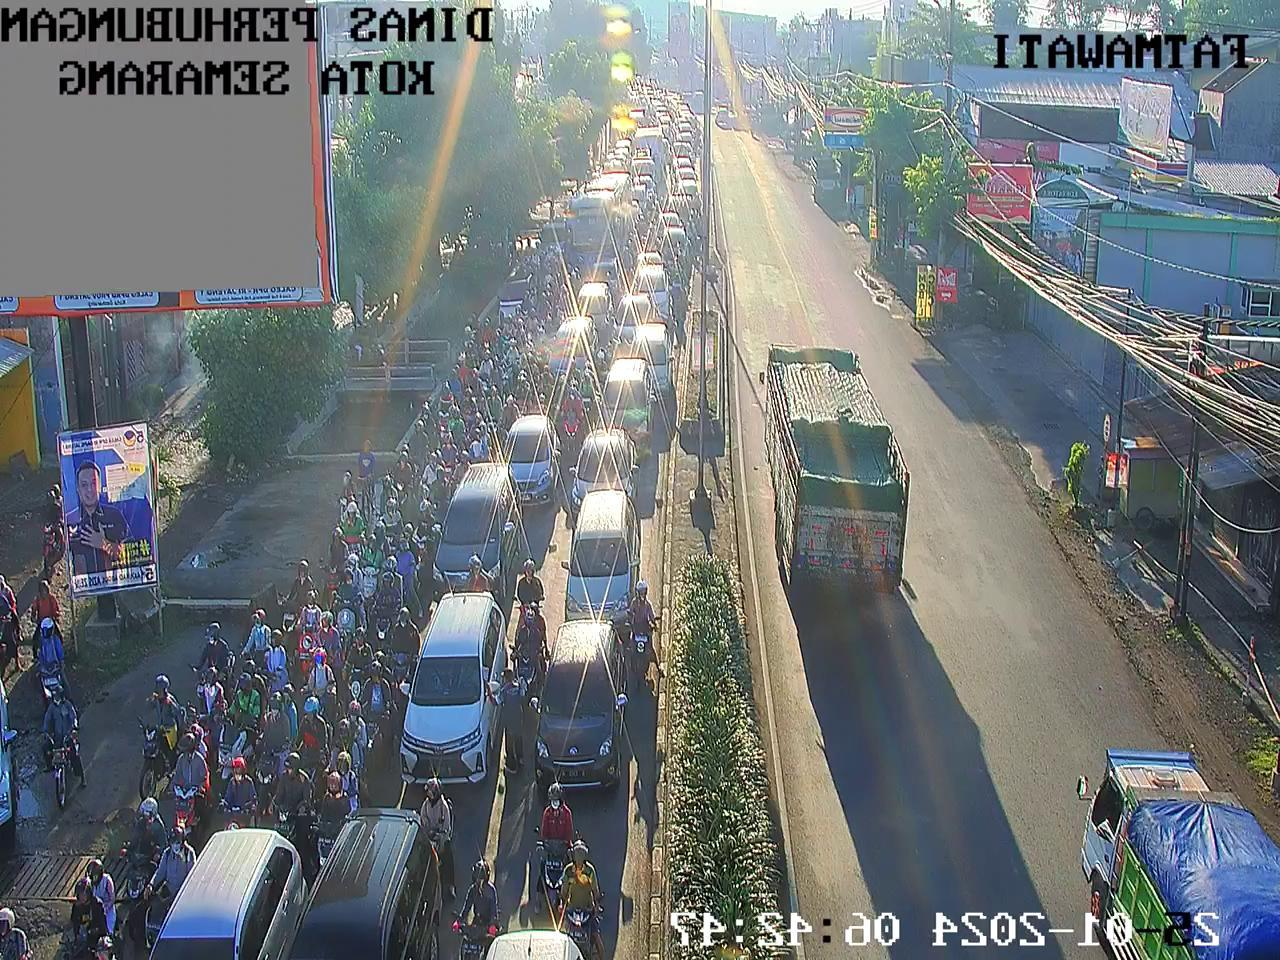bus: (579, 173, 618, 257), (643, 121, 662, 178)
car: (415, 599, 499, 779), (183, 829, 290, 960), (329, 822, 422, 958), (546, 628, 619, 786), (563, 498, 632, 617), (447, 469, 505, 589), (573, 431, 638, 507), (506, 421, 553, 507), (604, 364, 648, 435), (0, 681, 13, 838), (557, 315, 590, 366), (500, 273, 534, 320), (641, 327, 670, 371), (619, 297, 646, 344), (577, 284, 607, 324), (638, 268, 664, 311), (540, 221, 569, 257), (593, 253, 621, 287), (664, 223, 684, 254), (638, 251, 660, 275), (632, 156, 654, 179), (632, 175, 649, 199), (678, 181, 697, 196), (674, 157, 692, 169), (678, 141, 693, 155), (660, 214, 676, 227), (631, 198, 641, 218), (677, 167, 692, 181), (613, 155, 627, 168), (616, 139, 630, 150), (660, 115, 669, 130), (632, 108, 642, 121), (656, 107, 668, 117), (679, 103, 689, 115), (683, 131, 692, 143), (653, 100, 660, 113), (682, 123, 690, 134), (656, 89, 664, 100), (683, 111, 692, 120), (632, 80, 639, 91), (641, 94, 647, 105), (647, 86, 654, 95)
motorcycle: (561, 840, 607, 960), (169, 730, 212, 847), (127, 808, 165, 934), (136, 681, 175, 801), (148, 830, 186, 948), (537, 787, 574, 907), (458, 861, 500, 960), (256, 693, 290, 811), (317, 755, 357, 858), (45, 693, 80, 809), (63, 866, 106, 960), (221, 681, 255, 787), (329, 706, 366, 800), (271, 749, 308, 840), (419, 781, 452, 883), (628, 581, 658, 689), (361, 666, 390, 762), (294, 704, 328, 788), (515, 608, 543, 705), (38, 477, 63, 580), (193, 629, 226, 706), (278, 565, 307, 651), (342, 630, 369, 712), (515, 558, 545, 630), (31, 582, 59, 657), (225, 766, 255, 836), (338, 560, 363, 642), (41, 624, 65, 714), (411, 494, 433, 586), (391, 613, 414, 701), (313, 615, 342, 687), (376, 565, 401, 644), (359, 536, 383, 615), (296, 596, 318, 680), (0, 577, 18, 676), (243, 611, 269, 679), (0, 904, 31, 960), (193, 680, 220, 744), (324, 531, 347, 607), (258, 634, 287, 693), (373, 472, 395, 543), (340, 498, 362, 567), (406, 425, 428, 489), (420, 449, 438, 520), (394, 444, 412, 514), (561, 388, 581, 451), (429, 471, 447, 535), (385, 496, 400, 567), (398, 535, 413, 604), (469, 419, 491, 466), (452, 453, 469, 510), (437, 432, 455, 488), (498, 396, 516, 448), (581, 370, 597, 428), (669, 257, 685, 311), (465, 409, 482, 459), (592, 332, 609, 381), (338, 470, 354, 521), (458, 341, 475, 388), (419, 403, 435, 452), (551, 374, 567, 422), (461, 389, 476, 439), (500, 347, 515, 396), (513, 374, 532, 412), (498, 319, 515, 360), (447, 408, 463, 455), (687, 214, 700, 266), (479, 353, 495, 395), (460, 324, 476, 366), (486, 387, 501, 430), (514, 355, 531, 388), (554, 268, 567, 312), (480, 319, 495, 356), (449, 363, 461, 409), (543, 277, 556, 320), (438, 390, 449, 444), (513, 305, 524, 345), (521, 342, 535, 372), (527, 361, 540, 392), (540, 366, 553, 397), (534, 392, 548, 419), (519, 256, 533, 282), (562, 240, 573, 273), (537, 299, 546, 339), (679, 186, 691, 215), (544, 246, 555, 277), (623, 246, 632, 283), (568, 359, 579, 392), (527, 308, 537, 341), (693, 125, 703, 156), (664, 142, 674, 173), (668, 165, 678, 197), (651, 232, 662, 260), (638, 213, 647, 247), (536, 338, 547, 365), (532, 242, 541, 275), (628, 226, 636, 263), (574, 255, 585, 284), (658, 173, 666, 207), (648, 191, 657, 219), (692, 188, 702, 213), (667, 187, 677, 212), (644, 201, 651, 234), (632, 144, 642, 162), (583, 167, 592, 187), (557, 201, 567, 218), (598, 158, 606, 175), (626, 170, 633, 190), (553, 212, 564, 223), (574, 184, 582, 201), (669, 126, 675, 144), (595, 160, 601, 176), (567, 188, 573, 203), (693, 114, 698, 129), (583, 179, 588, 195), (687, 116, 693, 128), (665, 94, 671, 106), (606, 156, 611, 170), (671, 116, 676, 129), (626, 129, 631, 141), (646, 99, 651, 111), (669, 109, 674, 120), (648, 117, 653, 128), (631, 128, 636, 139), (683, 115, 688, 125), (642, 118, 647, 128), (637, 119, 641, 129), (654, 118, 658, 127), (637, 98, 641, 106), (649, 96, 652, 104), (633, 96, 637, 102), (641, 87, 645, 93), (640, 81, 643, 89), (643, 107, 645, 118), (635, 91, 638, 97)
